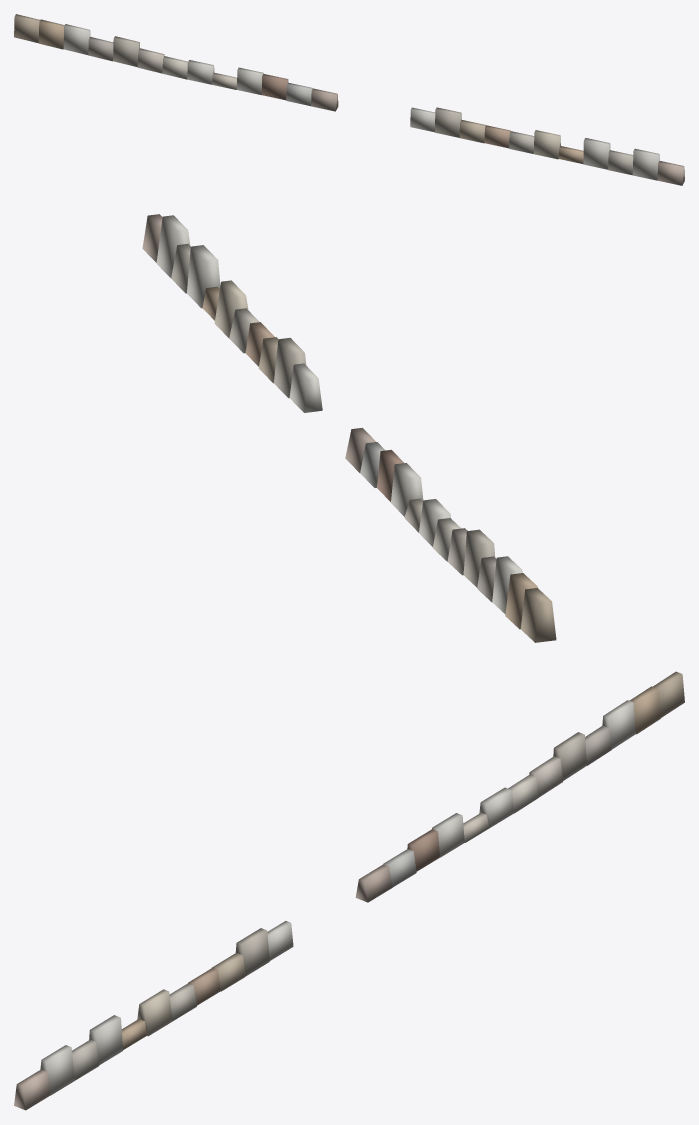
File: farm_1_1_collision.glb
The picture shows the model from 3 angles, top to bottom: view 1: azimuth 30°, elevation 25°; view 2: azimuth 150°, elevation 25°; view 3: azimuth 270°, elevation 25°; orthographic projection. The views are drawn at different scales.
Visible parts, largest first — view 1: geometry_0; view 2: geometry_0; view 3: geometry_0.
Part boxes in pixels (x1,y1,x2,y2): geometry_0: [14, 14, 684, 185]; geometry_0: [142, 214, 556, 642]; geometry_0: [14, 671, 684, 1110].
Bounding box in the file's own units: 30.81 × 6.76 × 29.21.
